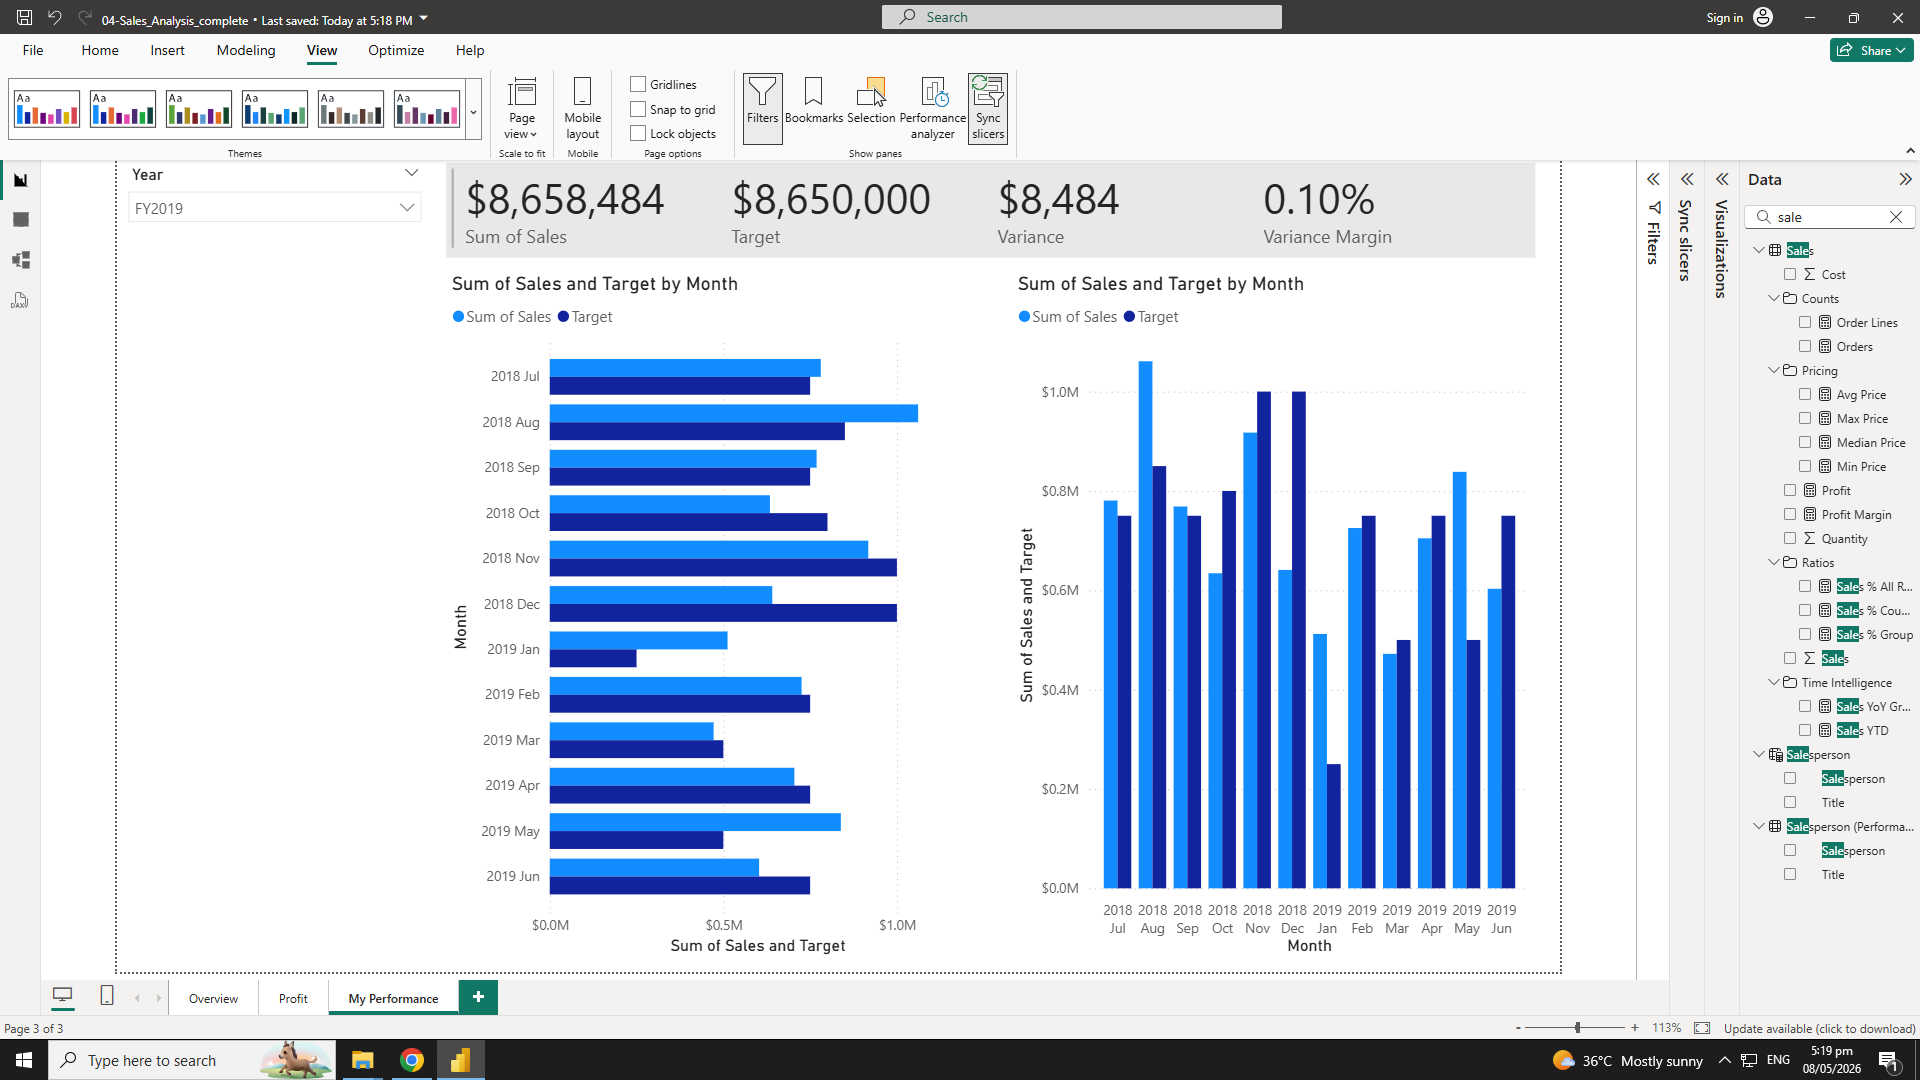

What the dashboard file says about the page in this screenshot:
{"tool":"powerbi","page":{"name":"My Performance","canvas":[1280,720],"ordinal":2},"visuals":[{"type":"slicer","fields":{"Values":["Date.Year"]},"box":[0,0,280.1,67.1],"z":1},{"type":"multiRowCard","fields":{"Values":["Sum(Sales.Sales)","Targets.Target","Targets.Variance","Targets.Variance Margin"]},"box":[291.8,2.9,965.8,83.6],"z":2},{"type":"clusteredBarChart","fields":{"Category":["Date.Month"],"Y":["Sum(Sales.Sales)","Targets.Target"]},"box":[291.8,99.2,483.4,610.8],"z":3},{"type":"clusteredColumnChart","fields":{"Category":["Date.Month"],"Y":["Sum(Sales.Sales)","Targets.Target"]},"box":[793.7,99.2,464,610.8],"z":4}]}

Visuals, with their boxes on the page's 1280x720 design canvas (x1, y1, x2, y2). These are canvas units, not pixel positions in the 1920x1080 screenshot, which may show the page scaled, cropped or inside an application window:
slicer - Date.Year: x1=0 y1=0 x2=280 y2=67
multiRowCard - Sum(Sales.Sales) x Targets.Target: x1=292 y1=3 x2=1258 y2=86
clusteredBarChart - Date.Month x Sum(Sales.Sales): x1=292 y1=99 x2=775 y2=710
clusteredColumnChart - Date.Month x Sum(Sales.Sales): x1=794 y1=99 x2=1258 y2=710
